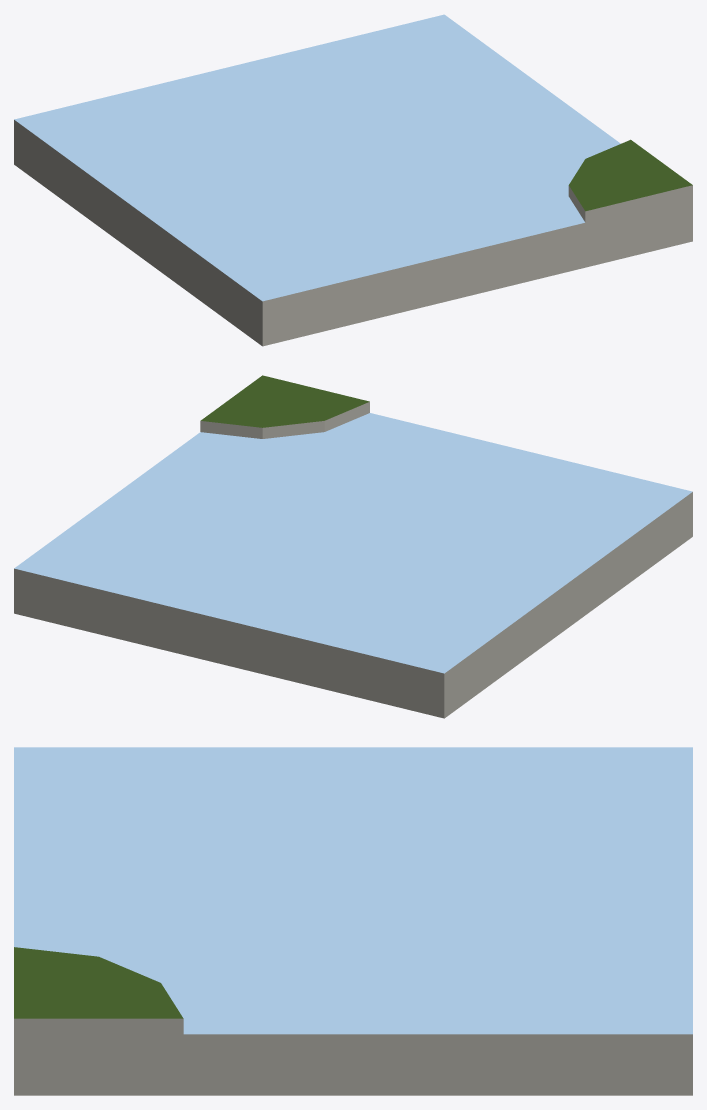
Rendered from Terrain_Tile_Grass_Rock_Water_Bank_Corner_04.fbx.
3 views of the same model, one above another, from view 1: azimuth 30°, elevation 25°; view 2: azimuth 150°, elevation 25°; view 3: azimuth 270°, elevation 25° (orthographic). The views are drawn at different scales.
Visible parts, largest first — view 1: Terrain_Tile_Grass_Rock_Water_Bank_Corner_04; view 2: Terrain_Tile_Grass_Rock_Water_Bank_Corner_04; view 3: Terrain_Tile_Grass_Rock_Water_Bank_Corner_04.
Part boxes in pixels (x1,y1,x2,y2): Terrain_Tile_Grass_Rock_Water_Bank_Corner_04: [14, 14, 692, 346]; Terrain_Tile_Grass_Rock_Water_Bank_Corner_04: [14, 375, 692, 718]; Terrain_Tile_Grass_Rock_Water_Bank_Corner_04: [14, 747, 692, 1095].
Size of the model in its own units: 126 by 15.75 by 126.
